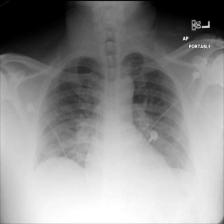normal: (28, 46, 198, 176)
